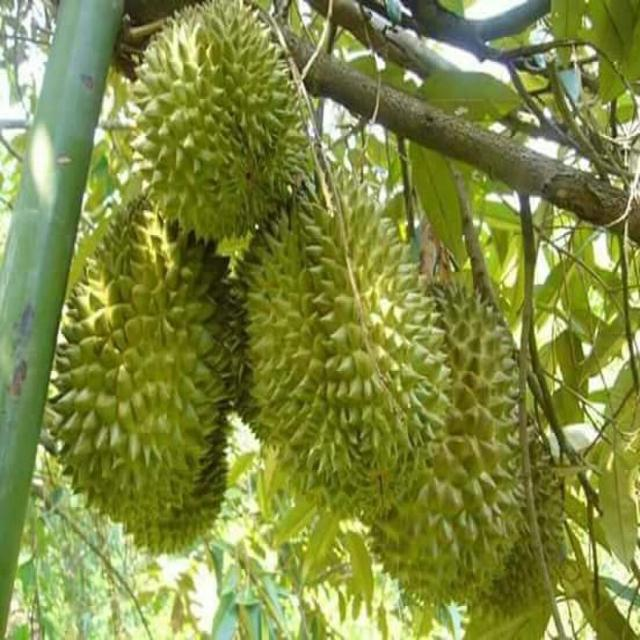immature: (237, 160, 448, 508), (339, 270, 528, 600), (48, 177, 226, 522), (135, 6, 301, 244)
